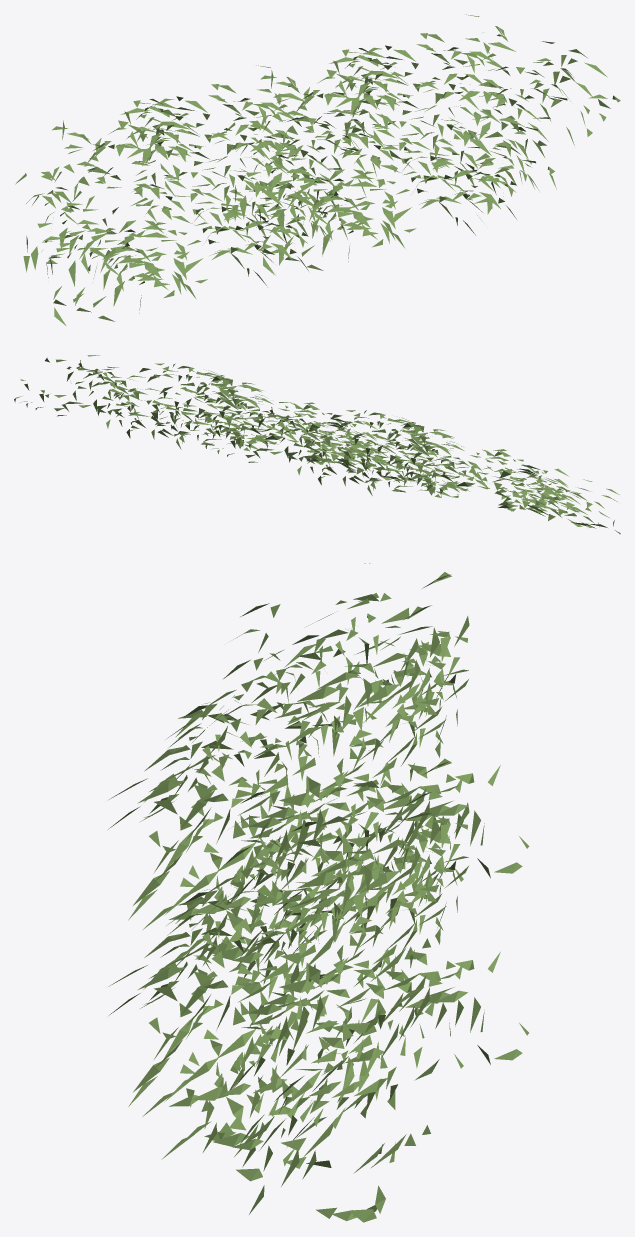
File: 09_openskp_material_5.004.obj
3 renders of one model, top to bottom at view 1: azimuth 30°, elevation 25°; view 2: azimuth 150°, elevation 25°; view 3: azimuth 270°, elevation 25°, orthographic. The views are drawn at different scales.
Visible parts, largest first — view 1: 09_openskp_material_5.004; view 2: 09_openskp_material_5.004; view 3: 09_openskp_material_5.004.
Boxes of the visible parts, box(x1,y1,x2,y2) form: 09_openskp_material_5.004: box(15, 14, 620, 325); 09_openskp_material_5.004: box(14, 355, 620, 534); 09_openskp_material_5.004: box(108, 563, 529, 1222).
Size of the model in its own units: 18.83 by 4 by 6.
